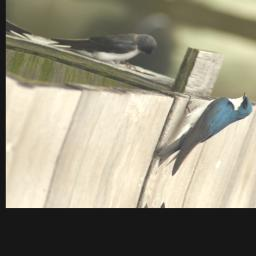Swallow: (152, 76, 256, 191)
